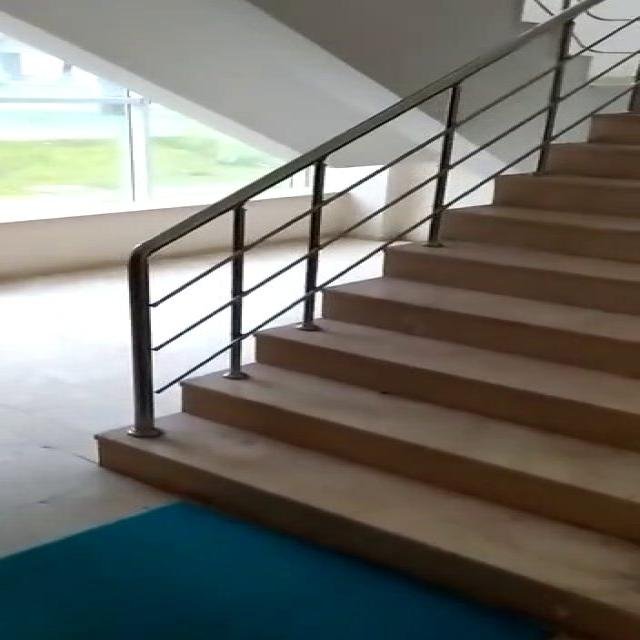upstair: (72, 40, 640, 640)
